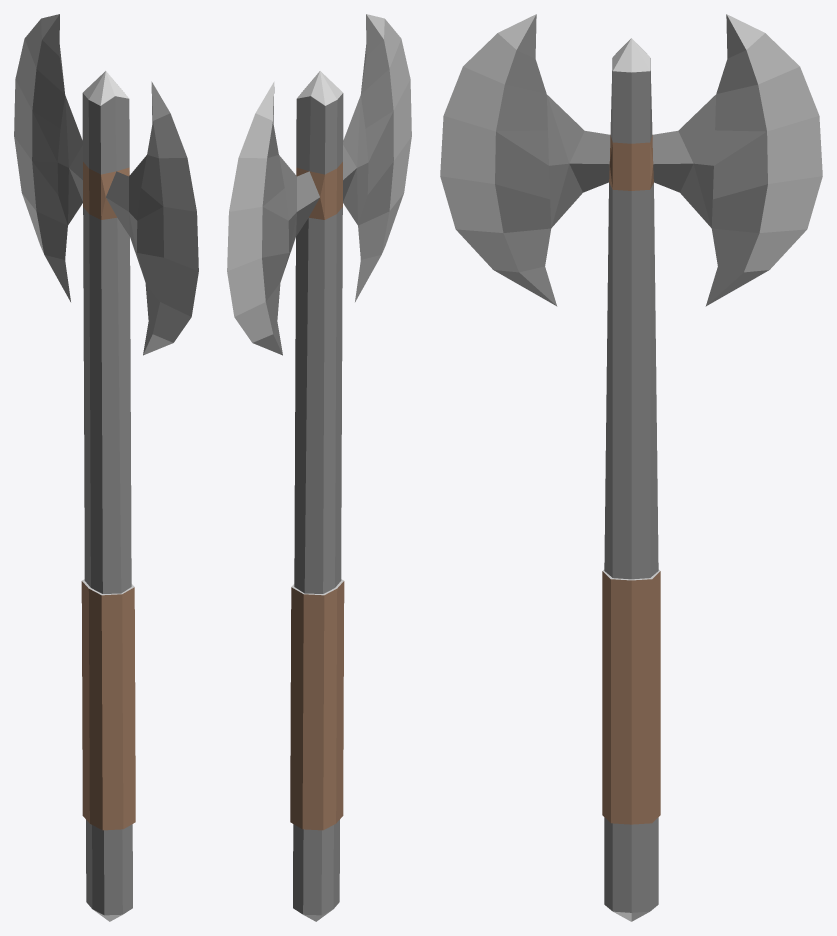
The model's file is big_axe.glb.
The picture shows the model from 3 angles, left to right: view 1: azimuth 30°, elevation 25°; view 2: azimuth 150°, elevation 25°; view 3: azimuth 270°, elevation 25°; orthographic projection. The views are drawn at different scales.
Parts seen in each view (by area): view 1: Plane; view 2: Plane; view 3: Plane.
Part boxes in pixels (x1,y1,x2,y2): Plane: (14,14,198,921); Plane: (227,14,411,921); Plane: (440,14,822,921).
Size of the model in its own units: 0.1028 by 2.15 by 0.8241.
